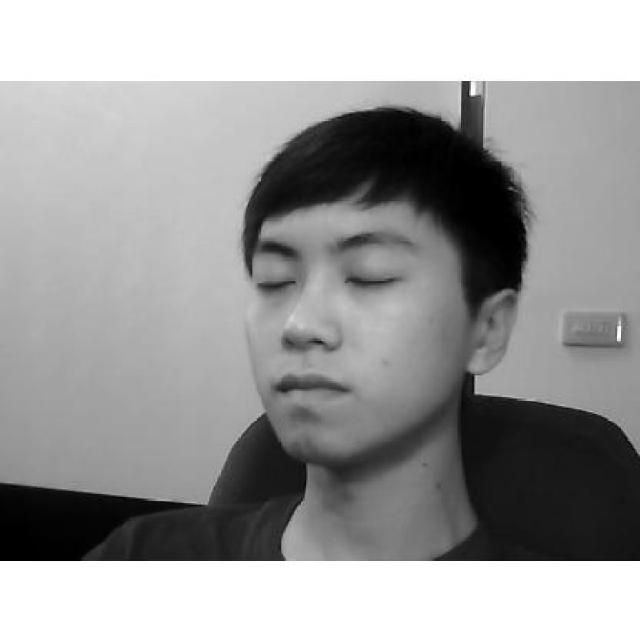inattentif: (244, 109, 519, 463)
